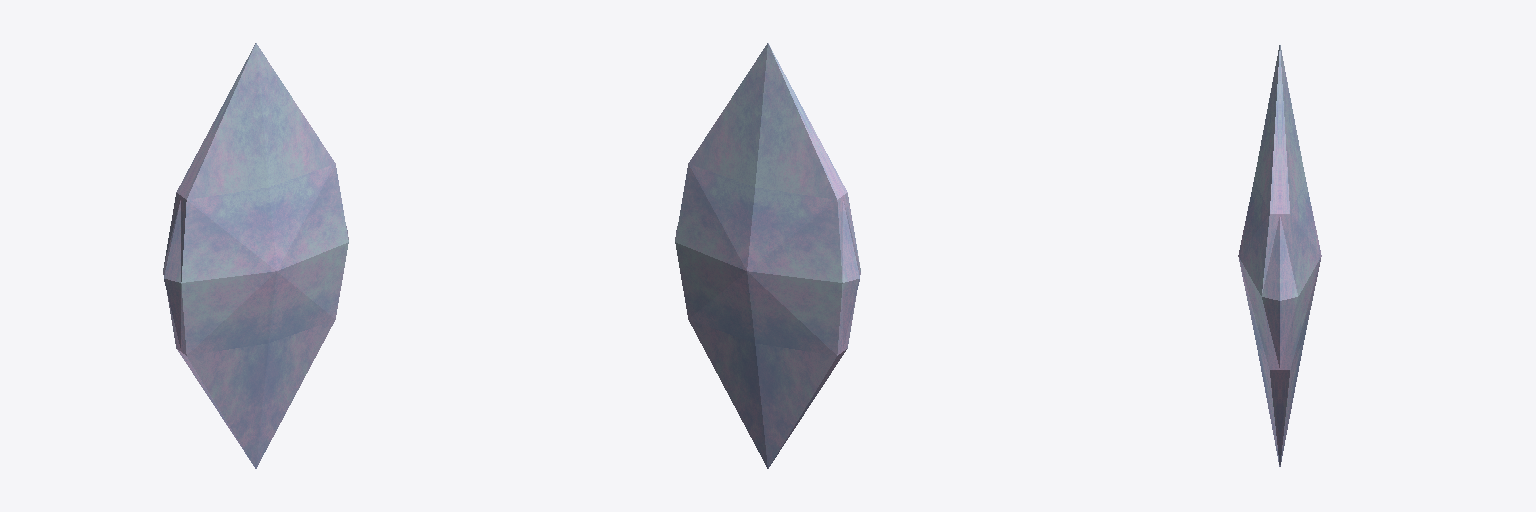
The picture shows the model from 3 angles: view 1: azimuth 30°, elevation 25°; view 2: azimuth 150°, elevation 25°; view 3: azimuth 270°, elevation 25°; orthographic projection.
Visible parts, largest first — view 1: Cube; view 2: Cube; view 3: Cube.
Part boxes in pixels (x1,y1,x2,y2): Cube: (163,43,348,468); Cube: (675,43,860,468); Cube: (1238,45,1321,466).
Bounding box in the file's own units: 2.48 × 5.47 × 0.9716.
1 materials, 1 textured.